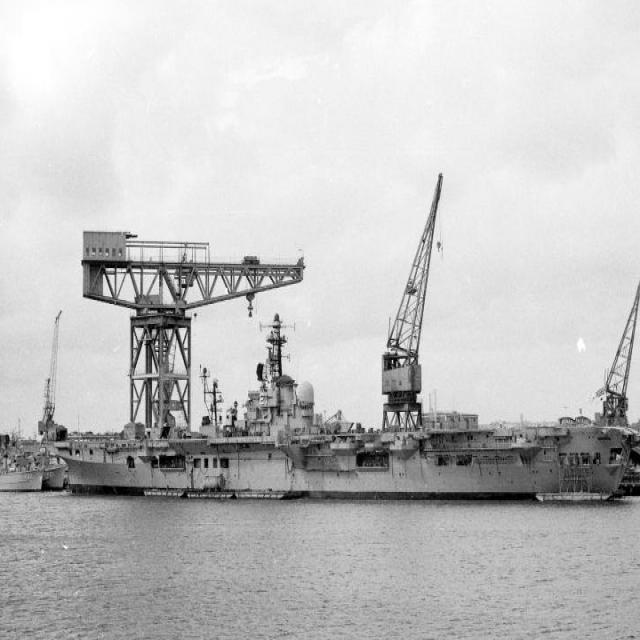Portanaves: (39, 316, 640, 510)
